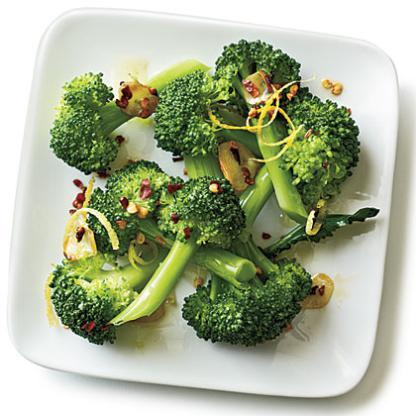broccoli: (46, 35, 362, 346)
